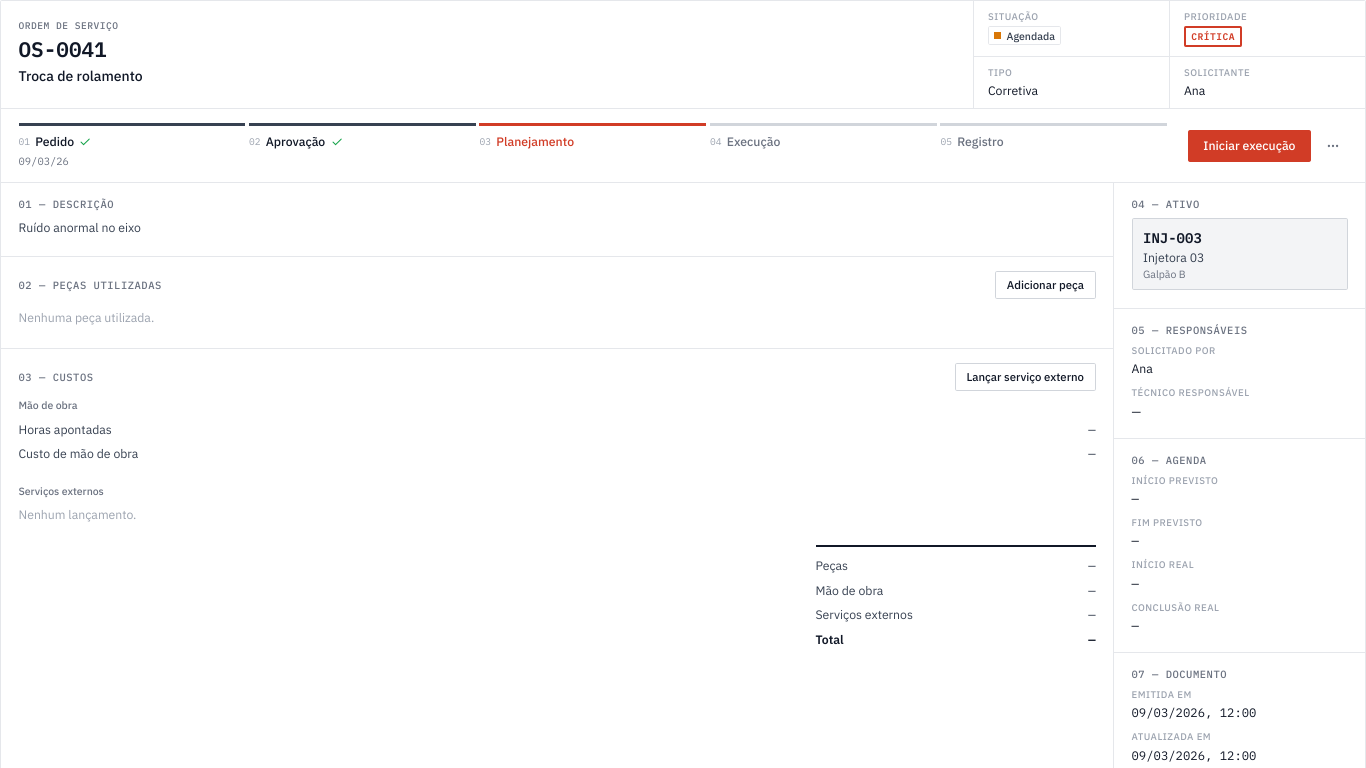
Test: WorkOrderViewPage › deve levar o cancelamento para o menu Mais ações
expect the heading "Troca de rolamento" is shown: met, box [18,67,143,85]
expect the button "Cancelar OS" is not shown: met
Click the button named "Mais ações" at (1332, 146), box [1318,130,1348,162]
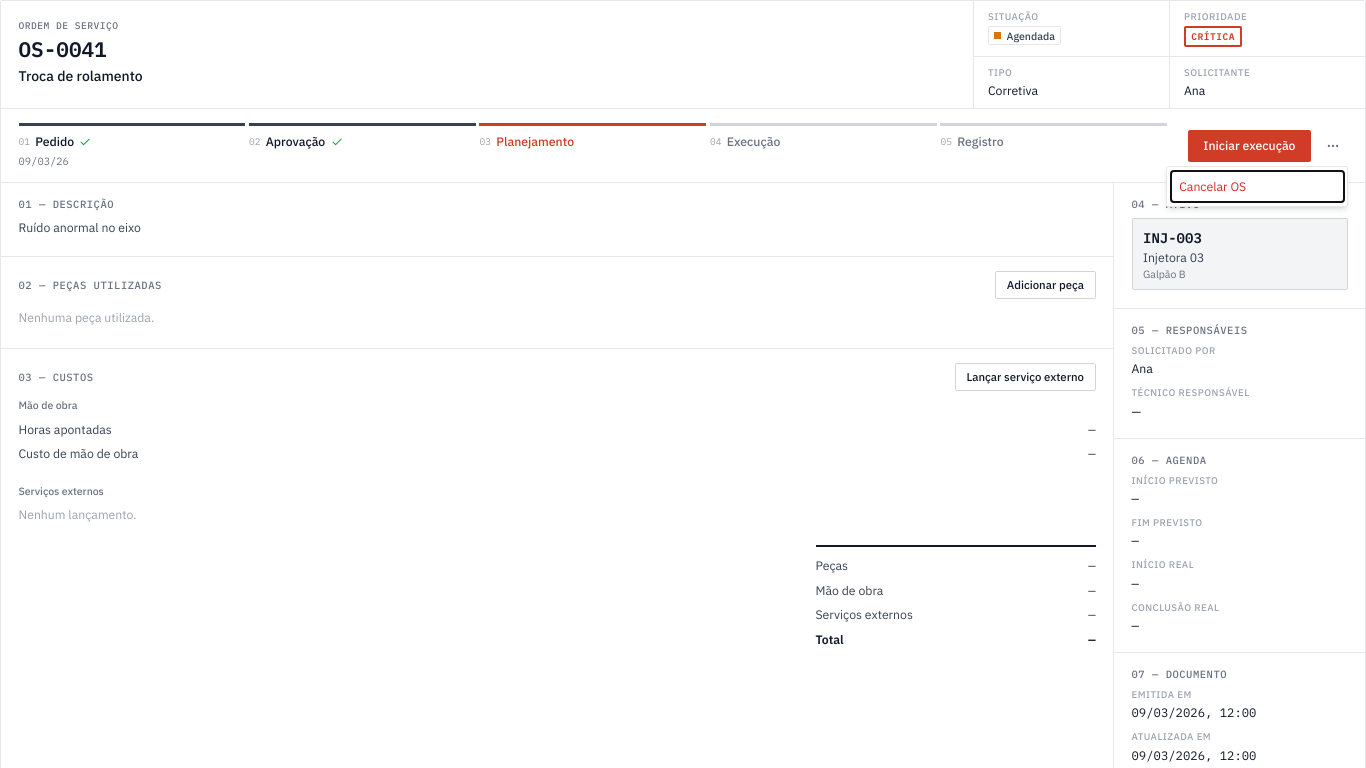
Click the button "Cancelar OS" at (1257, 186), box [1170,170,1344,202]
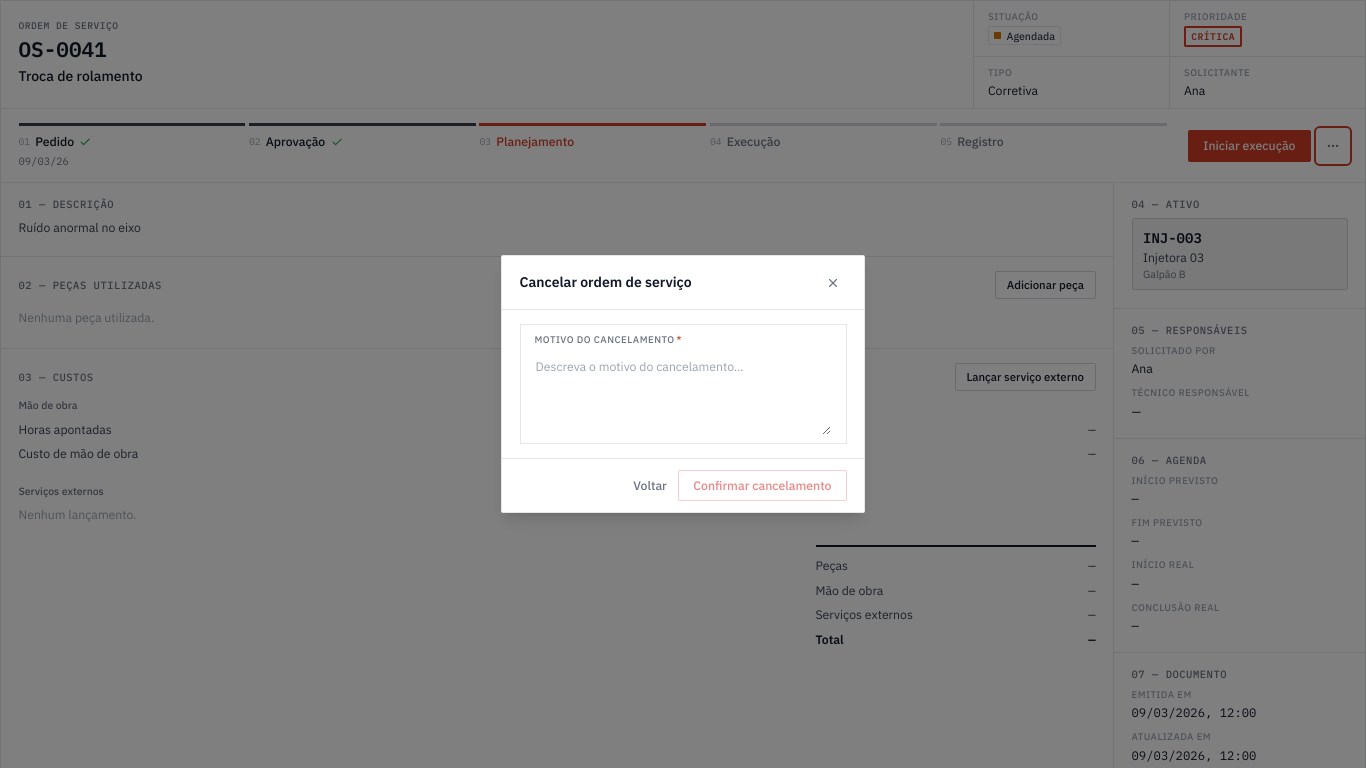
expect the button "Confirmar cancelamento" is disabled: met, box [678,470,846,501]
